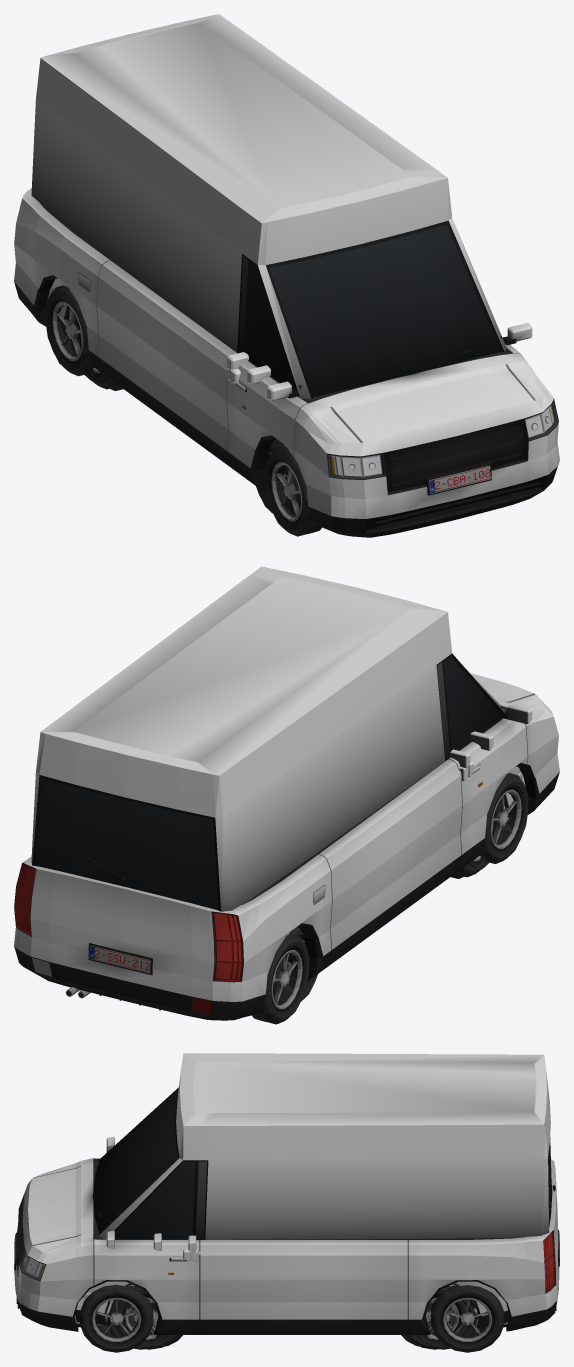
File: faceted.glb
3 views of the same model, one above another, from view 1: azimuth 30°, elevation 25°; view 2: azimuth 150°, elevation 25°; view 3: azimuth 270°, elevation 25° (orthographic). The views are drawn at different scales.
Visible parts, largest first — view 1: Body (×2), Wheel_FR, Wheel_RR; view 2: Body (×2), Wheel_RR, Wheel_FR; view 3: Body (×2), Wheel_FL (×3), Wheel_RL (×3).
Part boxes in pixels (<box>): Body (×2): <box>14,14,559,537</box>; Wheel_FR: <box>264,445,321,536</box>; Wheel_RR: <box>45,285,93,376</box>; Body (×2): <box>14,566,559,1020</box>; Wheel_RR: <box>252,933,309,1024</box>; Wheel_FR: <box>479,773,528,863</box>; Body (×2): <box>14,1053,559,1334</box>; Wheel_FL (×3): <box>80,1284,179,1352</box>; Wheel_RL (×3): <box>405,1285,504,1352</box>.
Size of the model in its own units: 2.25 by 2.28 by 5.05.
